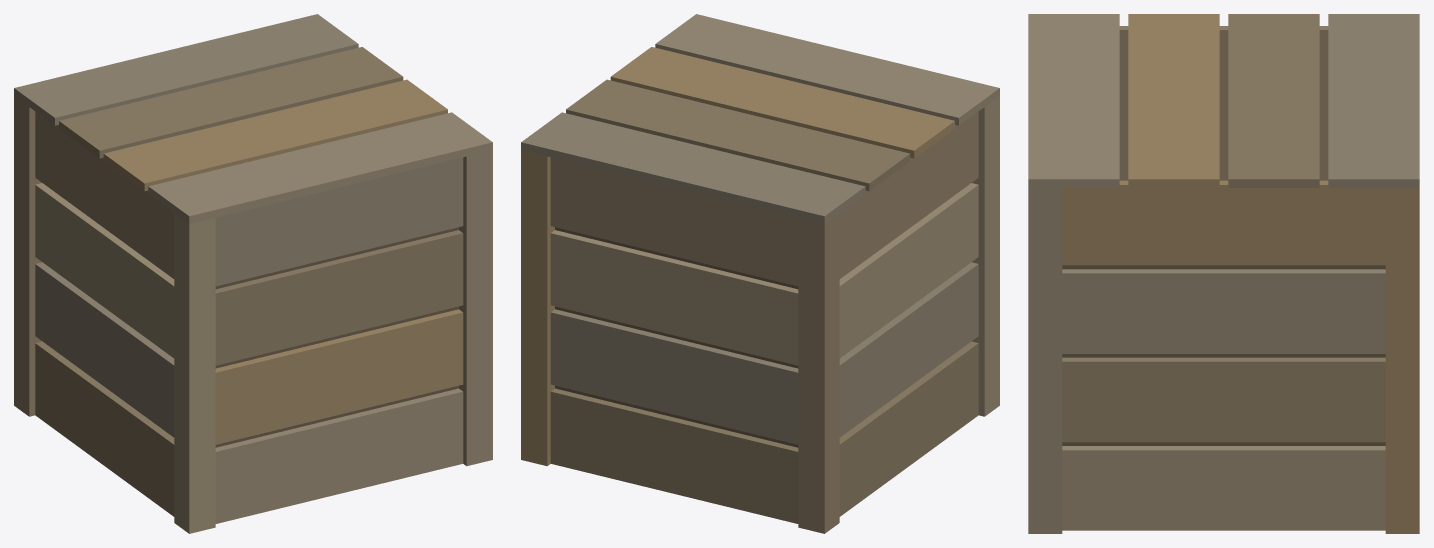
The model's file is large-crate.glb.
3 views of the same model, side by side, from view 1: azimuth 30°, elevation 25°; view 2: azimuth 150°, elevation 25°; view 3: azimuth 270°, elevation 25° (orthographic). The views are drawn at different scales.
Visible parts, largest first — view 1: large-crate; view 2: large-crate; view 3: large-crate.
Part boxes in pixels (x1,y1,x2,y2): large-crate: [14, 14, 492, 533]; large-crate: [521, 14, 999, 533]; large-crate: [1028, 14, 1419, 533].
Bounding box in the file's own units: 0.81 × 0.81 × 0.81.
